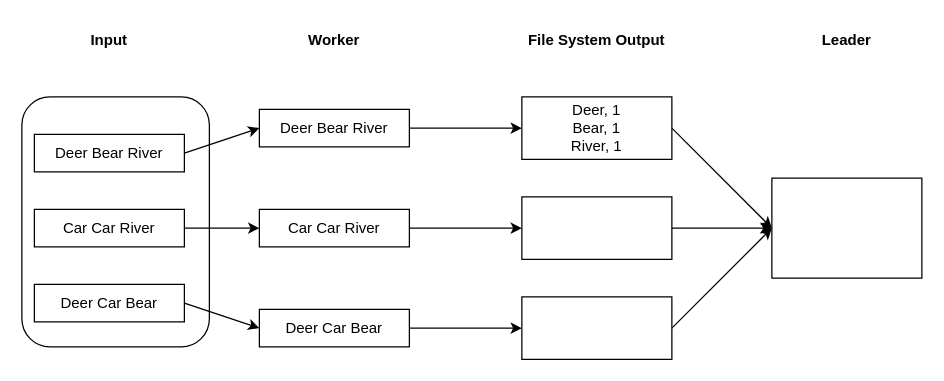
This 944x381 diagram has some shape labels left out. Here are the shapes that lost their labels. From the top down, the centre of each, then its label:
At [596,227]: "Car, 2 River, 1".
At [846,227]: "Bear, 2 Car, 3 Deer, 2 River, 2".
At [596,327]: "Deer, 1 Car, 1 Bear, 1".
